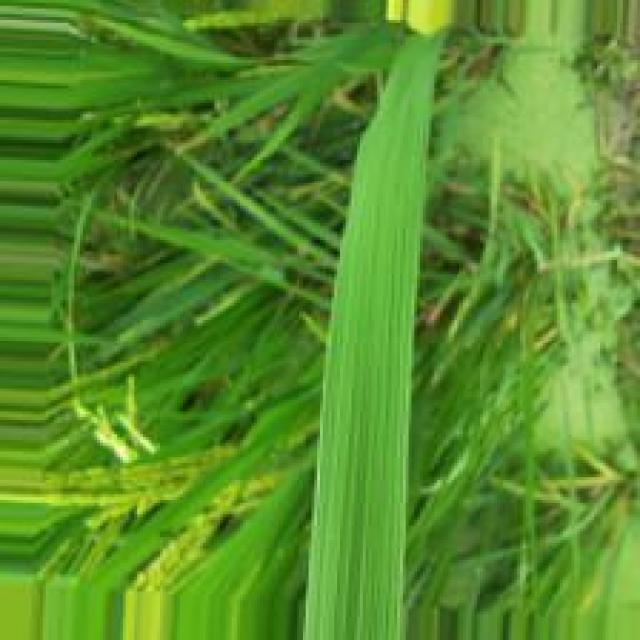HealthyLeaf: (301, 31, 443, 640)
